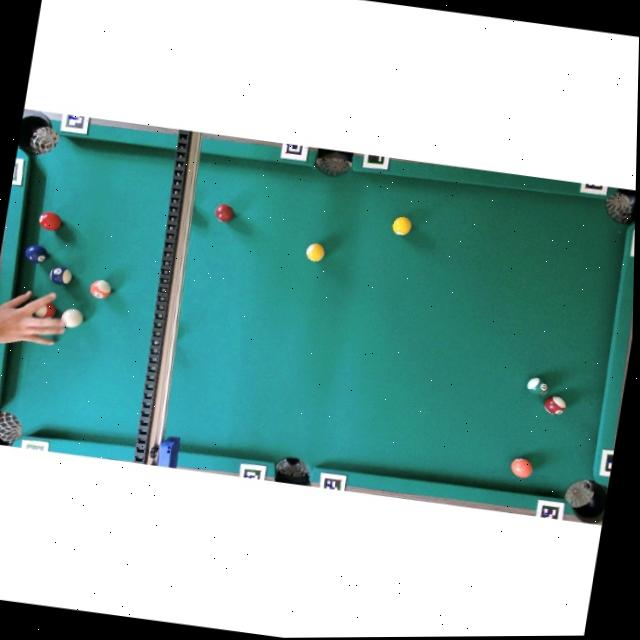cue ball: (60, 307, 84, 330)
other: (509, 456, 535, 480), (37, 210, 63, 232), (24, 243, 50, 265), (543, 395, 568, 417), (88, 278, 113, 300), (49, 265, 73, 287), (526, 376, 550, 396), (33, 301, 58, 320), (305, 242, 326, 263), (392, 216, 413, 237), (214, 203, 235, 224)
